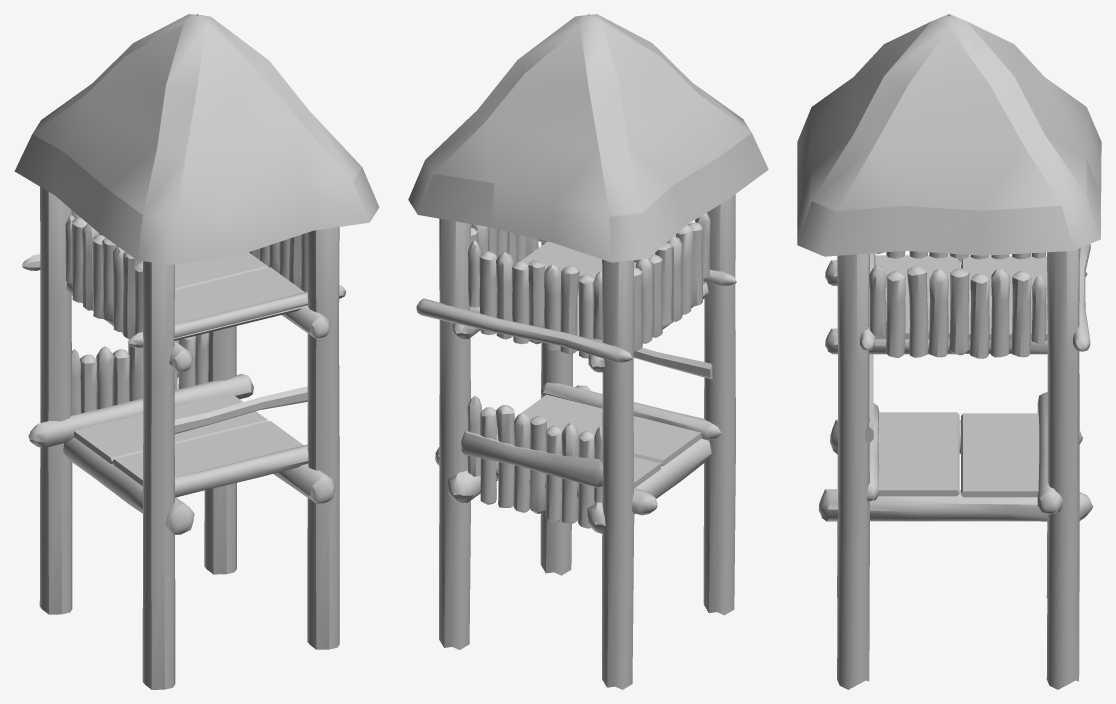
The model's file is WatchTower_1.fbx.
The picture shows the model from 3 angles, left to right: view 1: azimuth 30°, elevation 25°; view 2: azimuth 150°, elevation 25°; view 3: azimuth 270°, elevation 25°; orthographic projection. The views are drawn at different scales.
Parts seen in each view (by area): view 1: Wood, Alpha; view 2: Wood, Alpha; view 3: Wood, Alpha.
Boxes of the visible parts, x1,y1,x2,y2 form: Wood: (22, 187, 346, 689); Alpha: (14, 14, 379, 264); Wood: (416, 194, 736, 689); Alpha: (408, 14, 768, 262); Wood: (818, 244, 1093, 689); Alpha: (797, 14, 1101, 256).
Size of the model in its own units: 643 by 1562 by 685.
